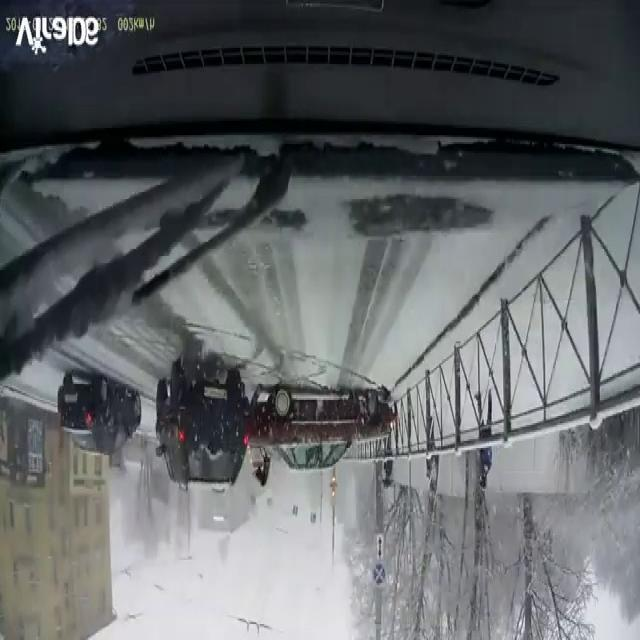moderate: (148, 361, 394, 502)
